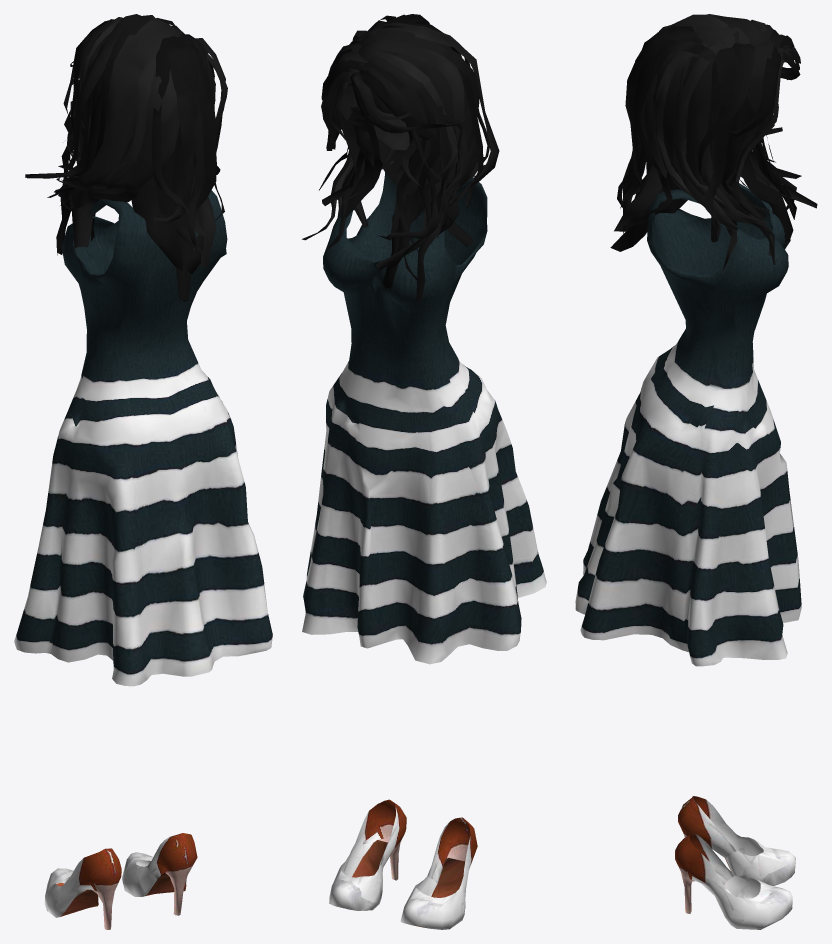
The model's file is 3RD CLOTH.fbx.
3 views of the same model, side by side, from view 1: azimuth 30°, elevation 25°; view 2: azimuth 150°, elevation 25°; view 3: azimuth 270°, elevation 25° (orthographic). The views are drawn at different scales.
Parts seen in each view (by area): view 1: cloth.001, 4TH TEXTURE CLOTH; view 2: cloth.001, 4TH TEXTURE CLOTH; view 3: cloth.001, 4TH TEXTURE CLOTH.
Boxes of the visible parts, box(x1,y1,x2,y2) form: cloth.001: box(14, 190, 272, 686); 4TH TEXTURE CLOTH: box(25, 14, 227, 929); cloth.001: box(302, 161, 546, 664); 4TH TEXTURE CLOTH: box(302, 14, 499, 929); cloth.001: box(575, 183, 801, 666); 4TH TEXTURE CLOTH: box(610, 14, 817, 929).
Size of the model in its own units: 38.62 by 143 by 35.33.
Materials: 1 (1 with a texture image).
